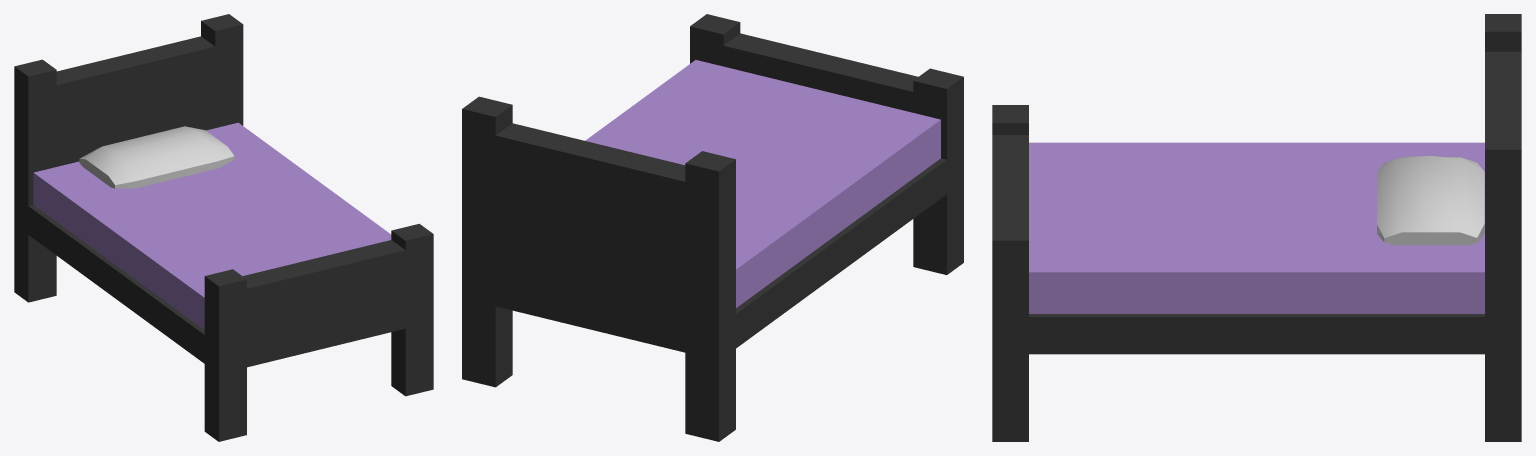
Rendered from Simple_Bed.fbx.
3 renders of one model, left to right at view 1: azimuth 30°, elevation 25°; view 2: azimuth 150°, elevation 25°; view 3: azimuth 270°, elevation 25°, orthographic. The views are drawn at different scales.
Parts seen in each view (by area): view 1: Cube; view 2: Cube; view 3: Cube.
Boxes of the visible parts, x1,y1,x2,y2 form: Cube: (14,14,433,441); Cube: (462,14,963,441); Cube: (992,14,1521,441).
Bounding box in the file's own units: 285 × 287 × 470.
